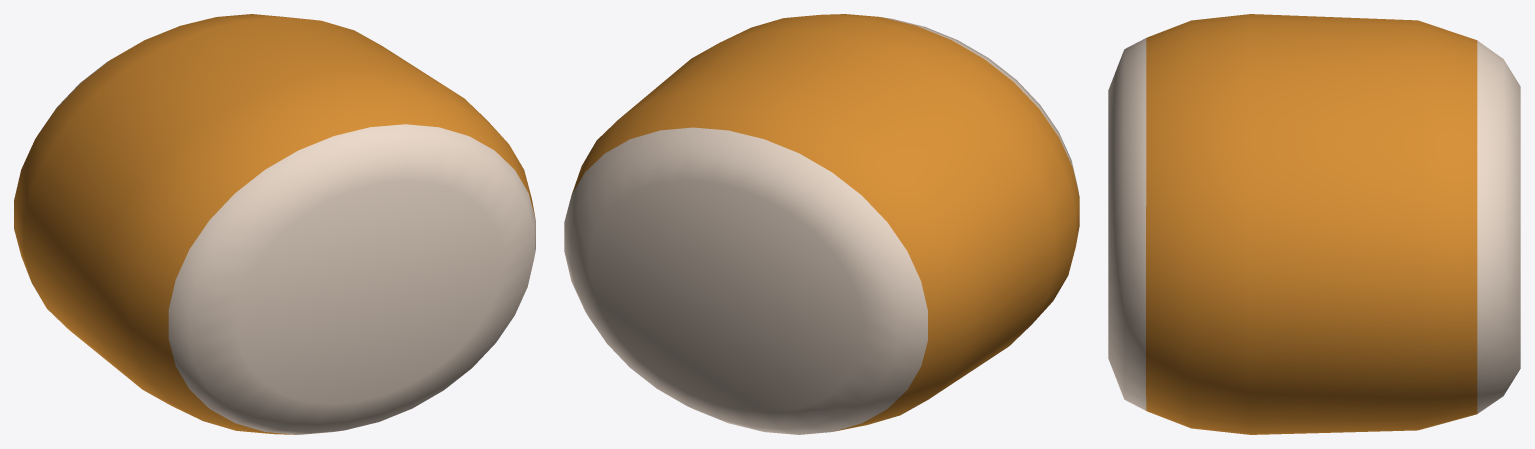
The picture shows the model from 3 angles, left to right: view 1: azimuth 30°, elevation 25°; view 2: azimuth 150°, elevation 25°; view 3: azimuth 270°, elevation 25°; orthographic projection. The views are drawn at different scales.
Visible parts, largest first — view 1: Segment; view 2: Segment; view 3: Segment.
Boxes of the visible parts, x1,y1,x2,y2 form: Segment: (14,14,535,434); Segment: (564,14,1079,434); Segment: (1108,14,1520,434).
Bounding box in the file's own units: 165 × 127 × 132.
